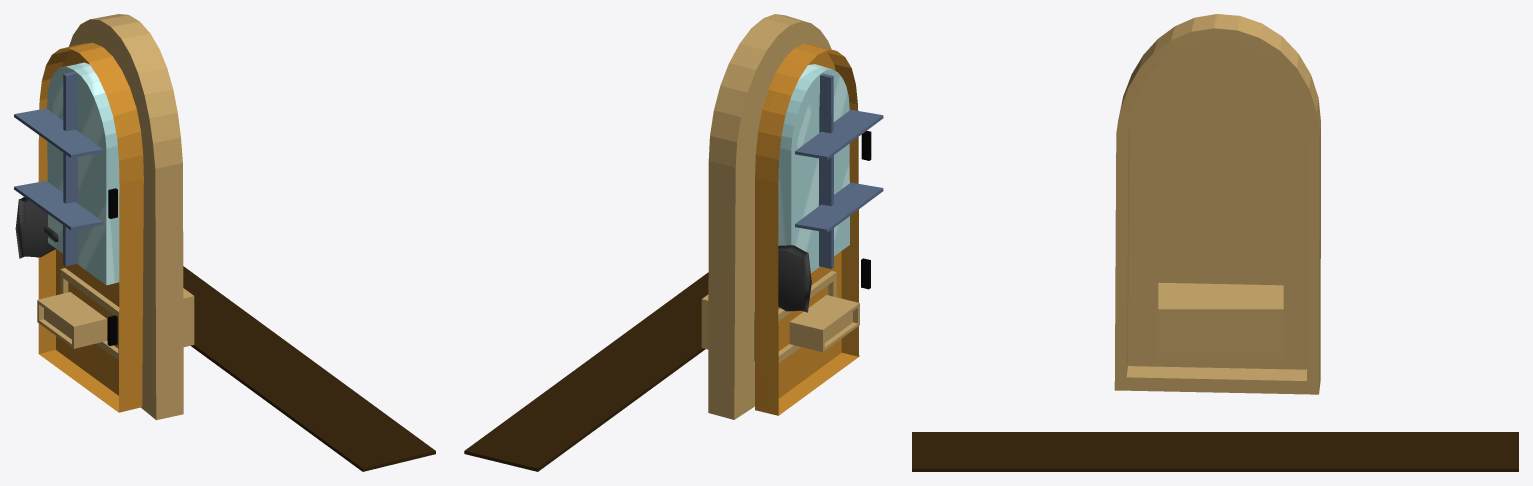
The model's file is door.glb.
3 views of the same model, side by side, from view 1: azimuth 30°, elevation 25°; view 2: azimuth 150°, elevation 25°; view 3: azimuth 270°, elevation 25° (orthographic). The views are drawn at different scales.
Visible parts, largest first — view 1: door-rail_door, door-rail.001_door, plane_door, glass_door, smallerBox_door, pole_door, pole2_door, pole3_door, smallBox_door, handdoor_door; view 2: door-rail_door, door-rail.001_door, plane_door, glass_door, smallerBox_door, pole_door, handdoor_door, pole2_door, pole3_door, smallBox_door; view 3: door-rail_door, plane_door, smallBox_door.
Part boxes in pixels (x1,y1,x2,y2): door-rail_door: (69,14,183,420); door-rail.001_door: (38,42,143,412); plane_door: (183,266,435,471); glass_door: (47,62,119,285); smallerBox_door: (37,292,106,348); pole_door: (63,71,78,266); pole2_door: (14,108,103,157); pole3_door: (14,181,103,230); smallBox_door: (60,268,194,360); handdoor_door: (15,197,55,258); door-rail_door: (708,14,831,419); door-rail.001_door: (755,43,859,415); plane_door: (464,272,708,471); glass_door: (778,64,849,272); smallerBox_door: (789,295,859,352); pole_door: (819,73,833,268); handdoor_door: (778,245,811,312); pole2_door: (795,109,883,159); pole3_door: (795,182,883,232); smallBox_door: (701,271,836,362); door-rail_door: (1114,14,1320,394); plane_door: (912,432,1518,471); smallBox_door: (1158,282,1283,359).
Bounding box in the file's own units: 6.66 × 9.44 × 14.04.
Materials: 8 (1 with a texture image).
